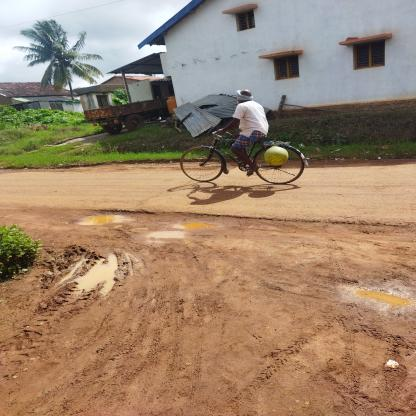bike: (160, 125, 330, 209)
